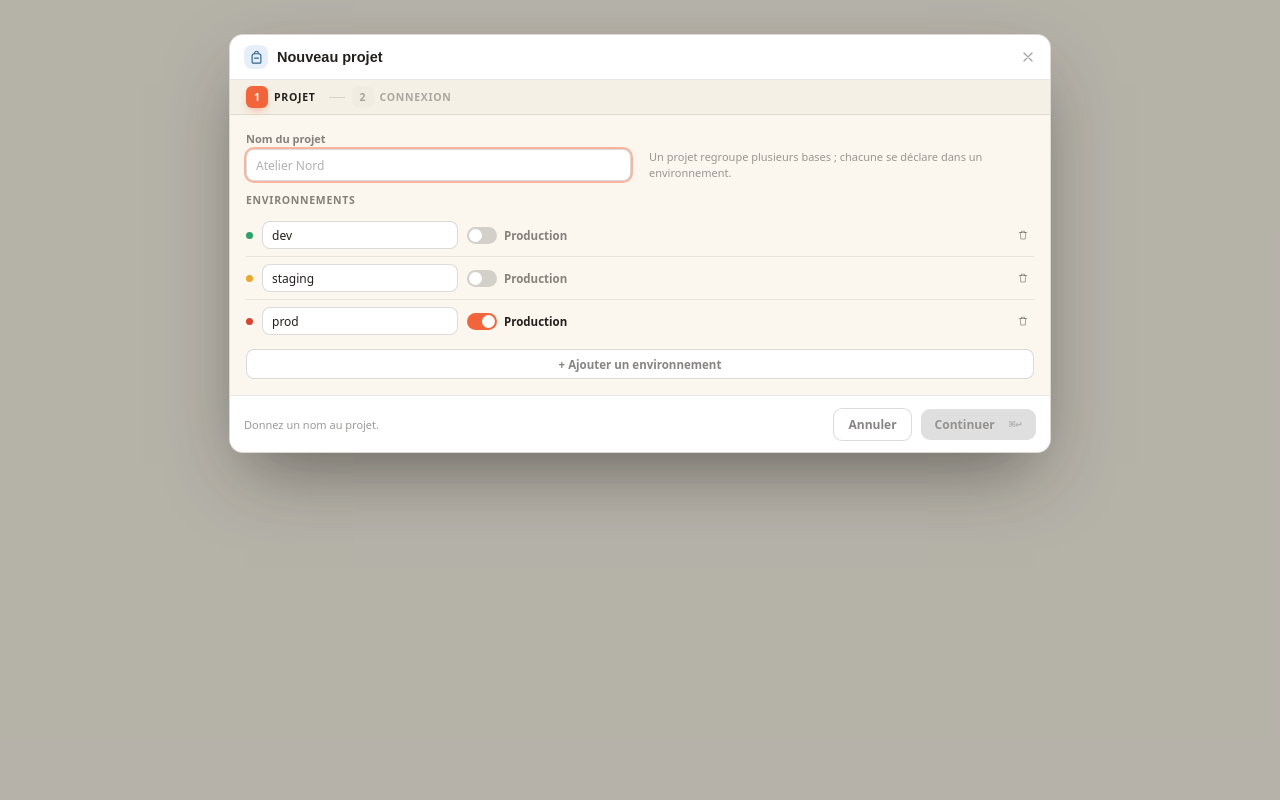
Test case: un libellé vide est refusé
Type "Halle" into the field labelled "Nom du projet" at (438, 165), box [246, 149, 631, 181]
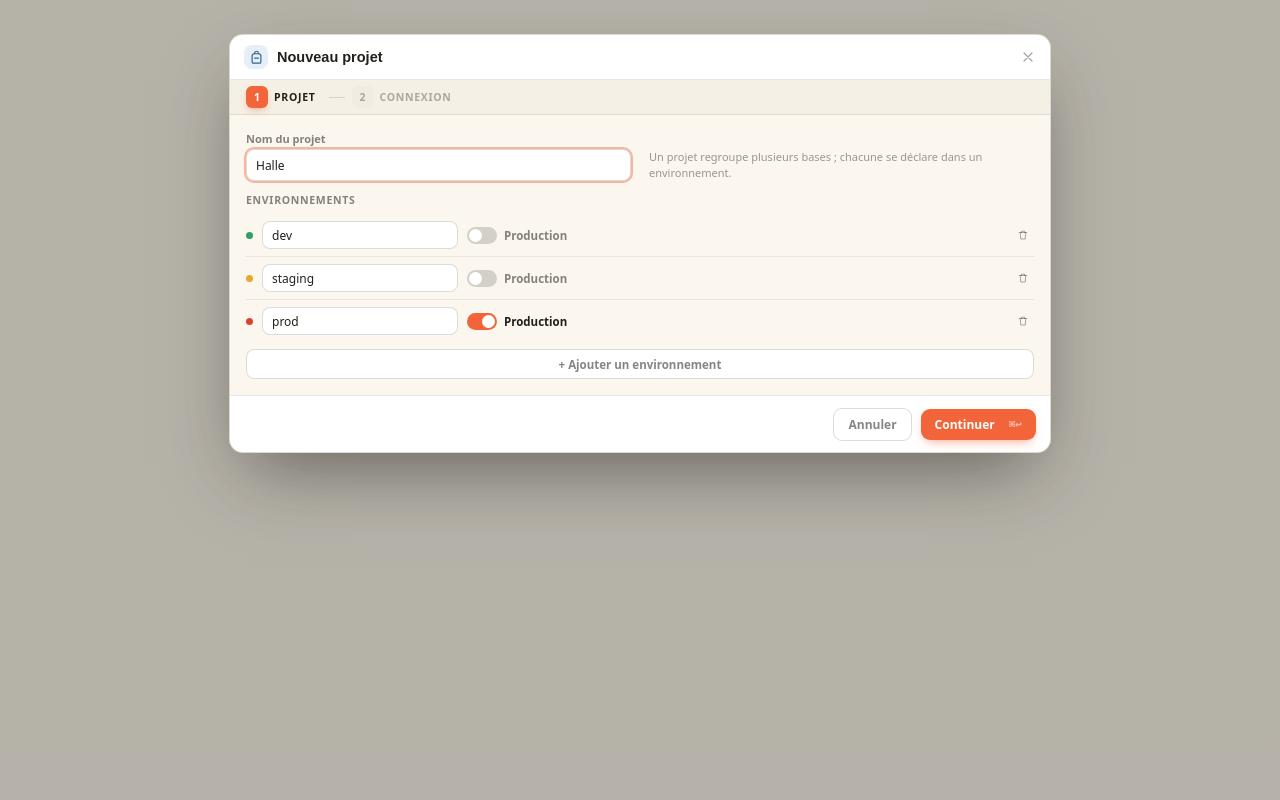
Clear the field named "Libellé de l’environnement 1" at (360, 235), box [262, 221, 458, 249]
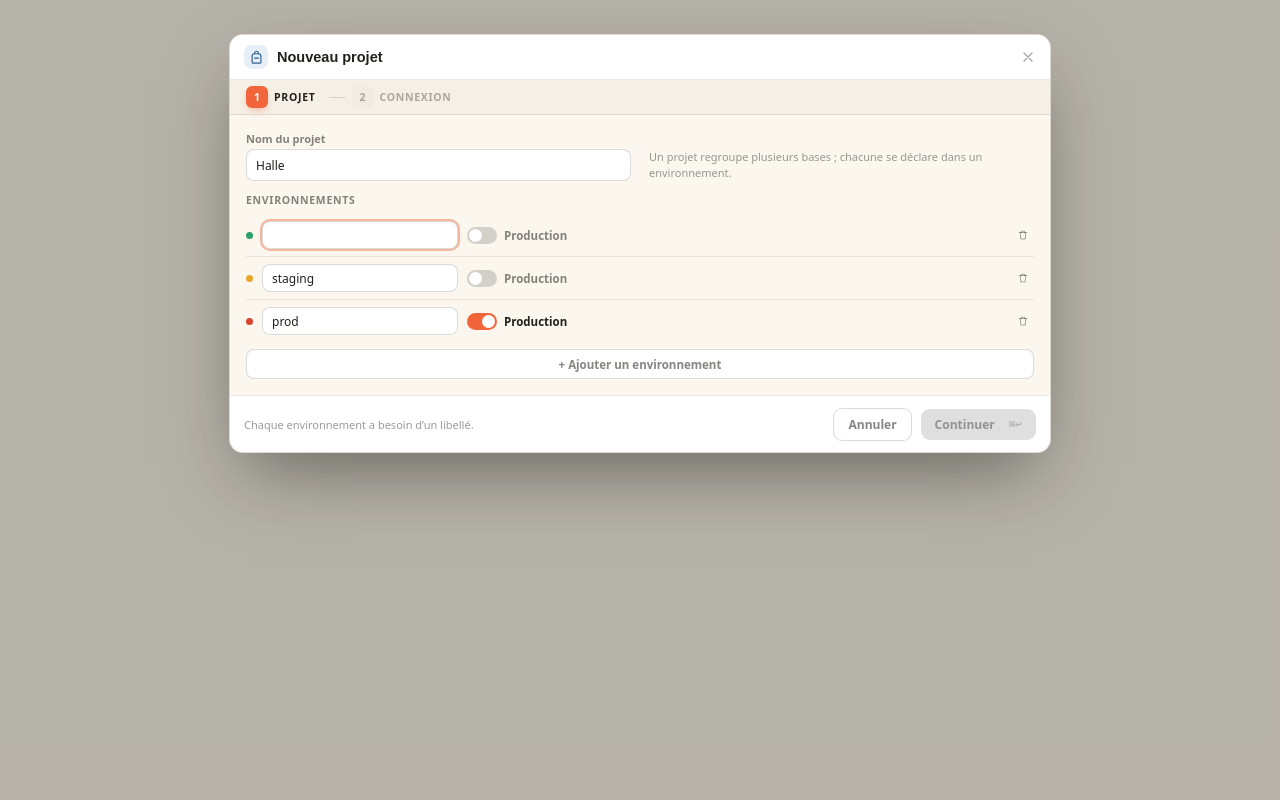
Result: the button "Continuer ⌘↩" is disabled at [921, 408, 1036, 440]
Result: the message shows "besoin d’un libellé" at [244, 416, 474, 432]
